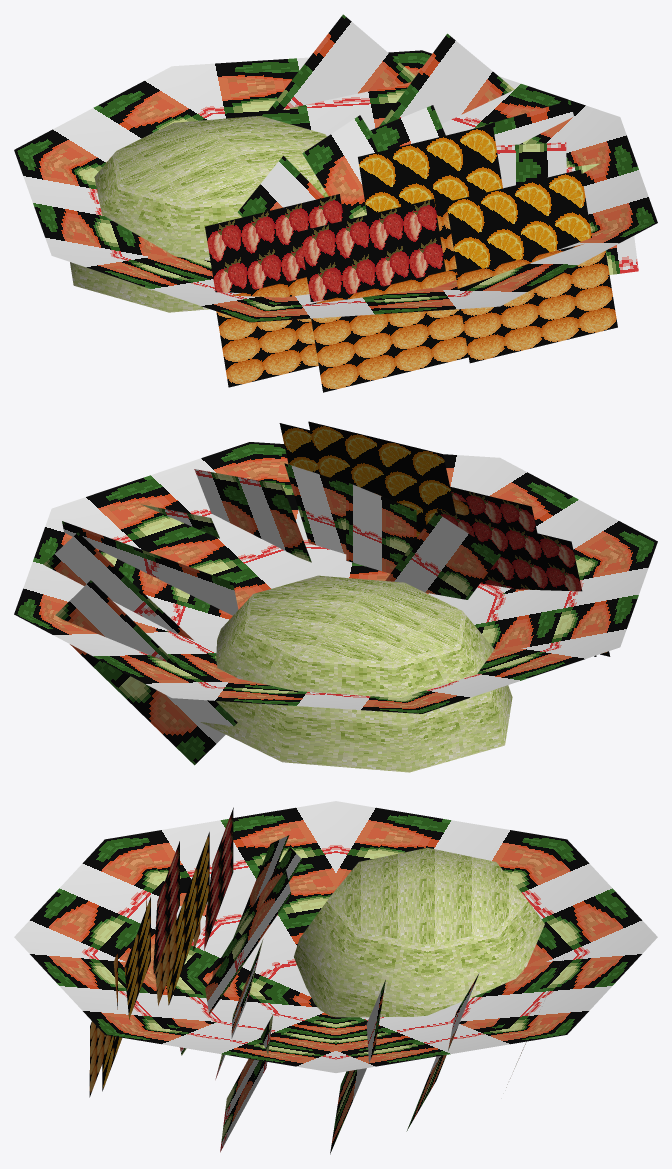
Rendered from 5537u_fri00_ss.gltf.
3 renders of one model, top to bottom at view 1: azimuth 30°, elevation 25°; view 2: azimuth 150°, elevation 25°; view 3: azimuth 270°, elevation 25°, orthographic.
Parts seen in each view (by area): view 1: 5537u_fri00_ss; view 2: 5537u_fri00_ss; view 3: 5537u_fri00_ss.
Boxes of the visible parts, <box> form: 5537u_fri00_ss: <box>14,14,657,392</box>; 5537u_fri00_ss: <box>14,421,657,772</box>; 5537u_fri00_ss: <box>14,801,657,1154</box>.
Bounding box in the file's own units: 0.8882 × 0.3398 × 0.8882.
5 materials, 5 textured.
